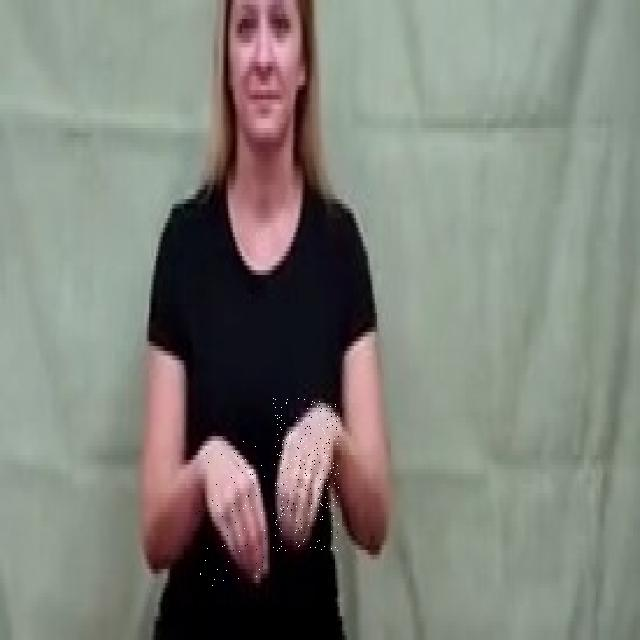ingredients: (196, 432, 268, 592), (274, 398, 339, 551)
